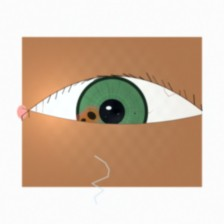foreign_body_visible: (71, 110, 96, 130)
